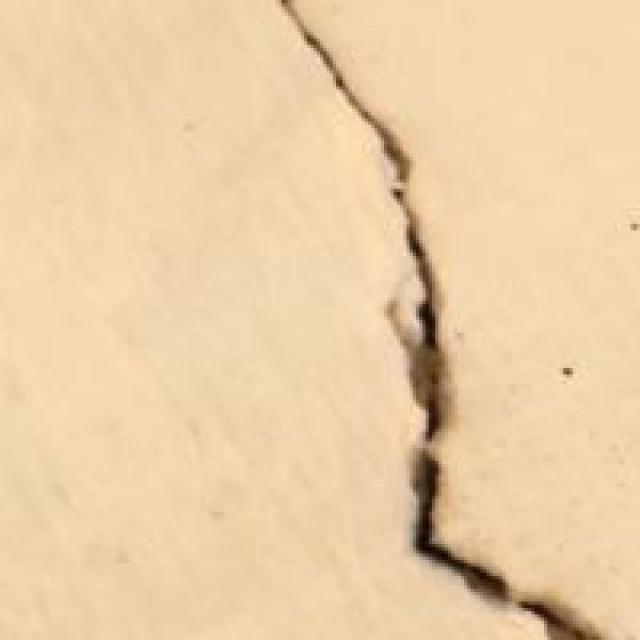Crack: (249, 0, 636, 637)
